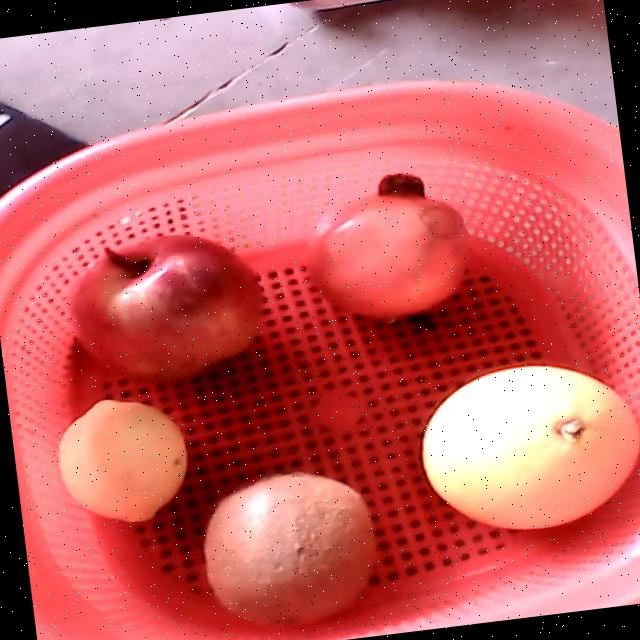apple: (68, 232, 264, 380)
kiwi: (204, 472, 376, 631)
lemon: (55, 399, 186, 522)
orange: (419, 363, 640, 528)
pomegranate: (301, 171, 471, 320)
